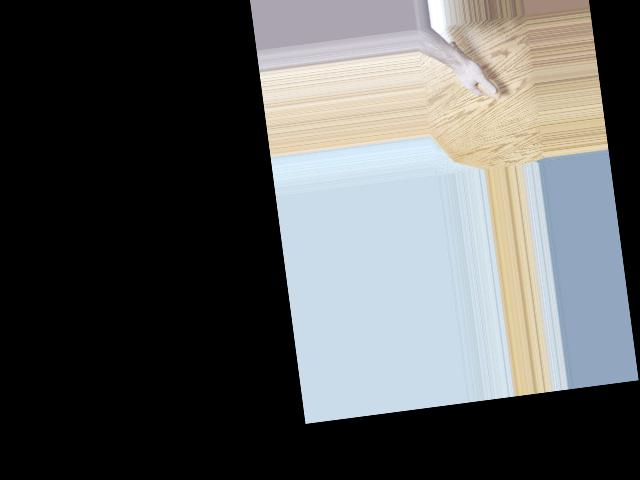sweet_potato: (448, 34, 501, 104)
